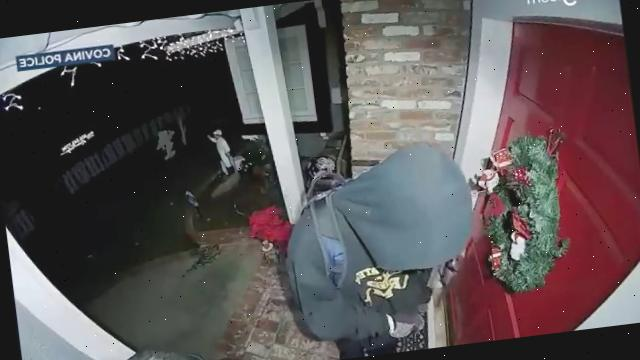suspicion: (260, 111, 512, 360)
